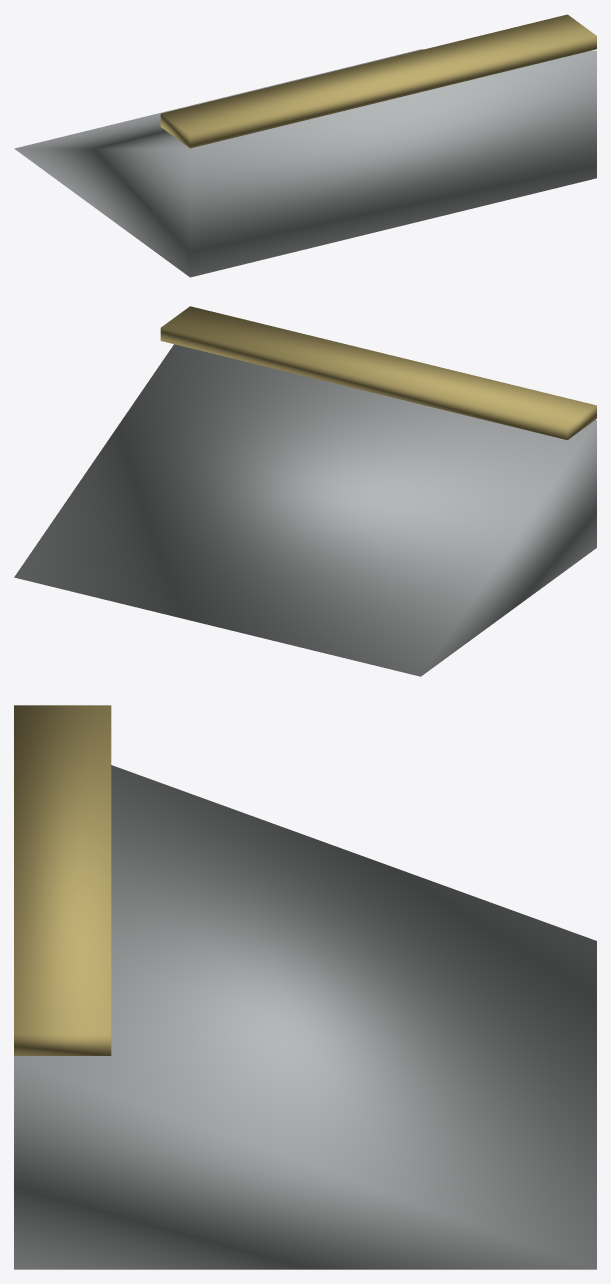
The model's file is curb_ramp_yellow_w80_h24_r60.glb.
The picture shows the model from 3 angles, top to bottom: view 1: azimuth 30°, elevation 25°; view 2: azimuth 150°, elevation 25°; view 3: azimuth 270°, elevation 25°; orthographic projection. The views are drawn at different scales.
Parts seen in each view (by area): view 1: world; view 2: world; view 3: world.
Boxes of the visible parts, x1,y1,x2,y2 form: world: (14,14,596,277); world: (14,306,596,676); world: (14,705,596,1269).
Bounding box in the file's own units: 0.8 × 0.2675 × 0.6.
